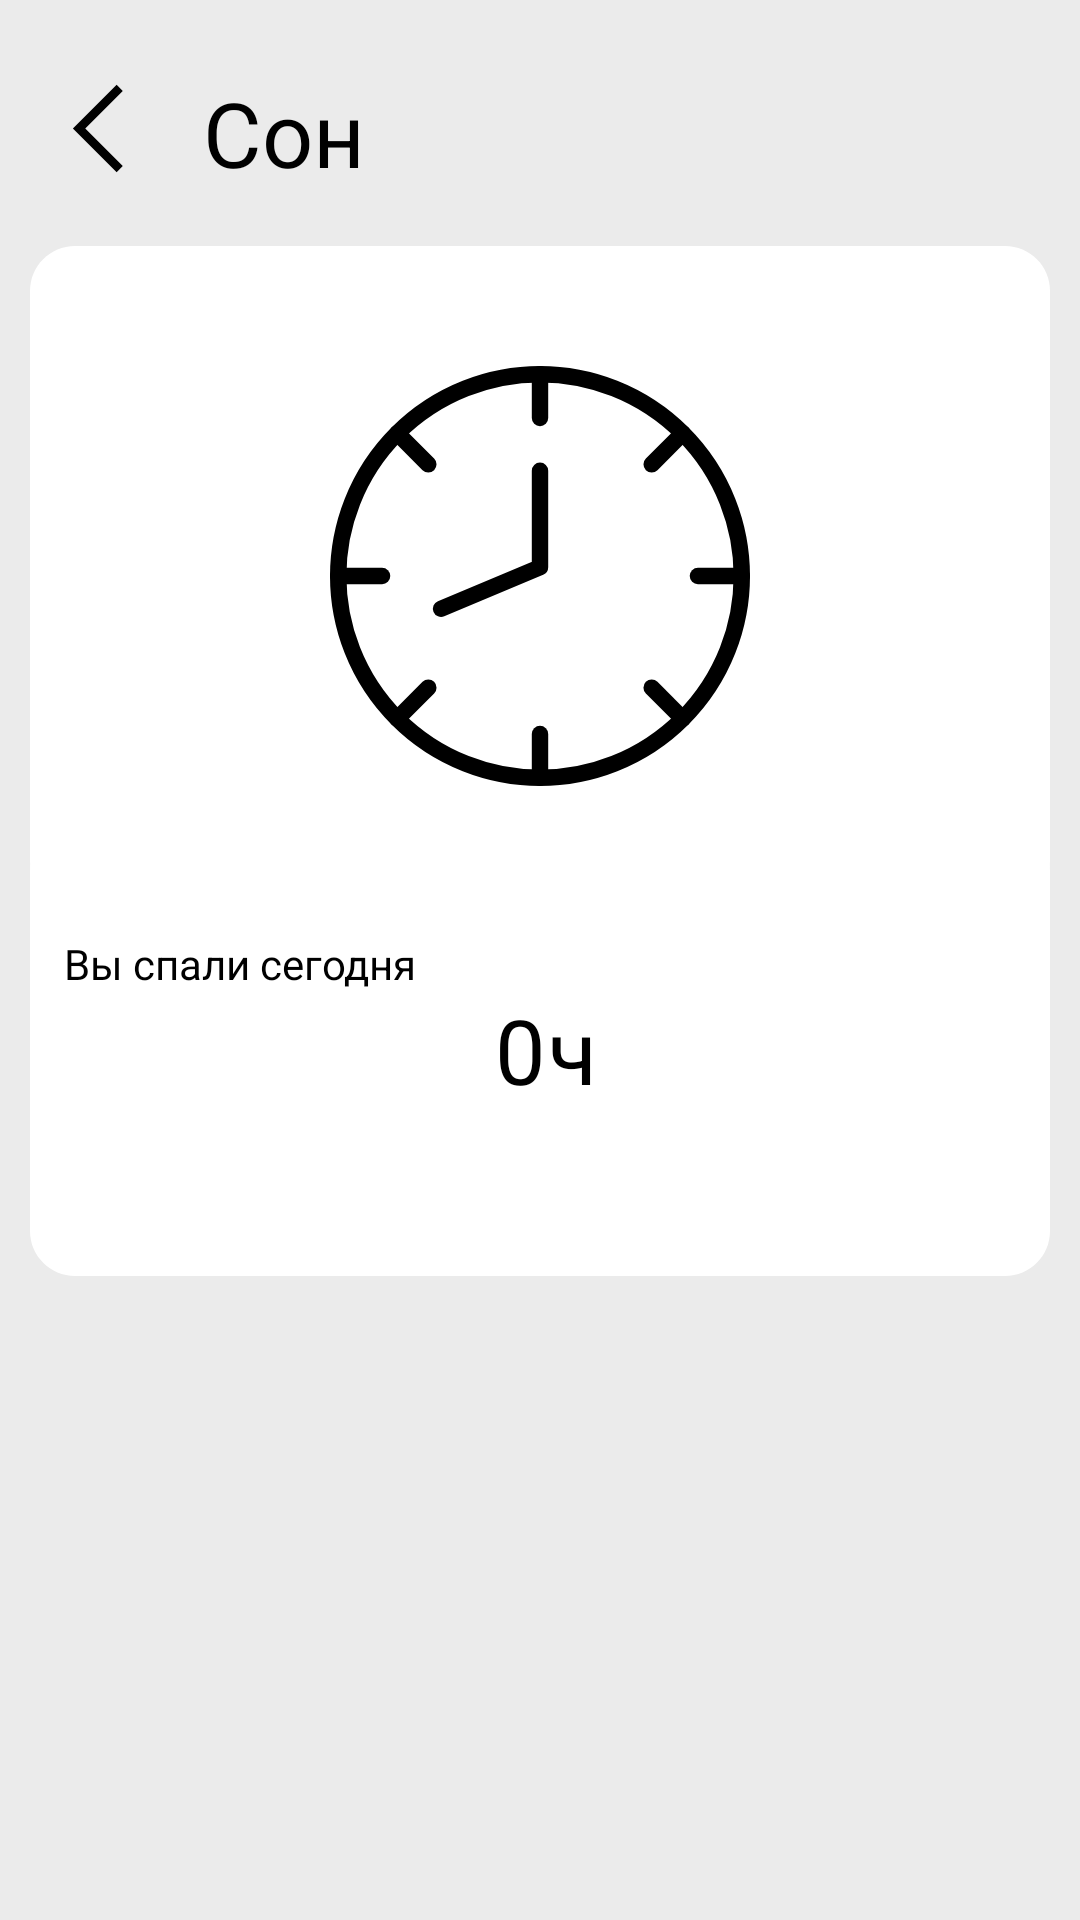

Icons on this 1080x1920 Android screen, each with its box as [x1=x1, y1=y1, x2=x2, y2=y2]:
arrow back: [x1=73, y1=85, x2=123, y2=172]
